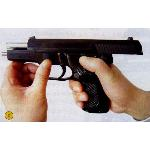Pistol: (2, 36, 140, 116)
